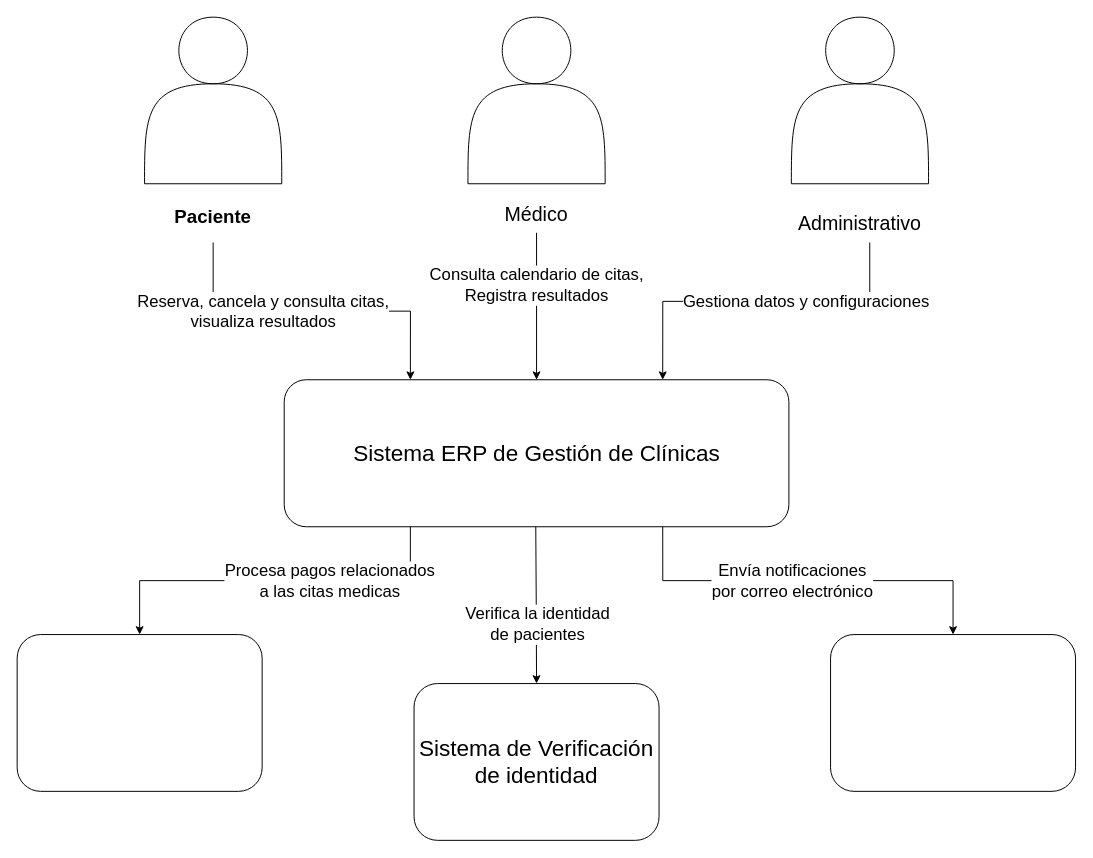
Some shapes in this 1093 by 858 pixel diagram are drawn without their labels. Each missing label, with the centre of its shape:
"Plataforma de Pago" belongs at (139,712).
"Sistema de correos" belongs at (953,712).
